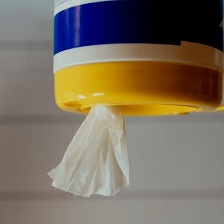plastic_box: (44, 0, 224, 121)
tissue: (41, 100, 133, 201)
